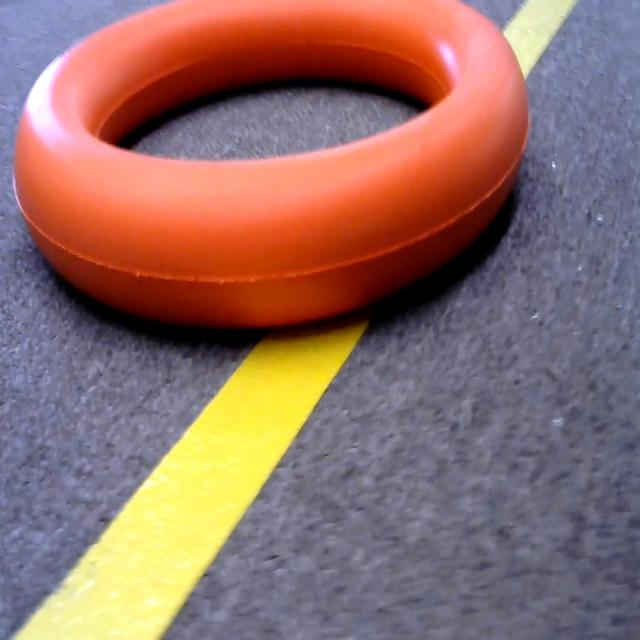note: (1, 0, 550, 327)
